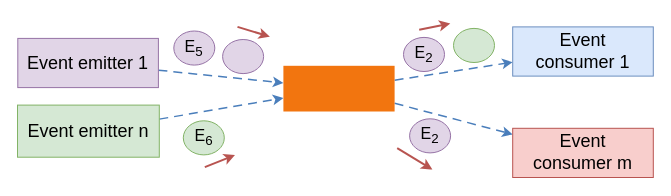
Some shapes in this 671 by 196 pixel diagram are drawn without their labels. The centre of each missing label's shape, as x and y in pixels:
Dispatcher: point (338, 88)
E 1: point (473, 44)
E 4: point (243, 56)
